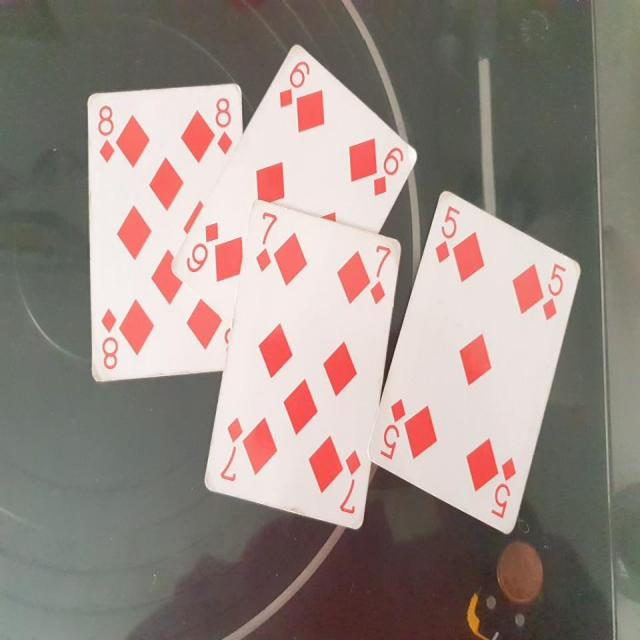5 Diamonds: (404, 188, 581, 538)
6 Diamonds: (171, 42, 419, 317)
7 Diamonds: (202, 200, 403, 532)
8 Diamonds: (86, 77, 245, 385)
